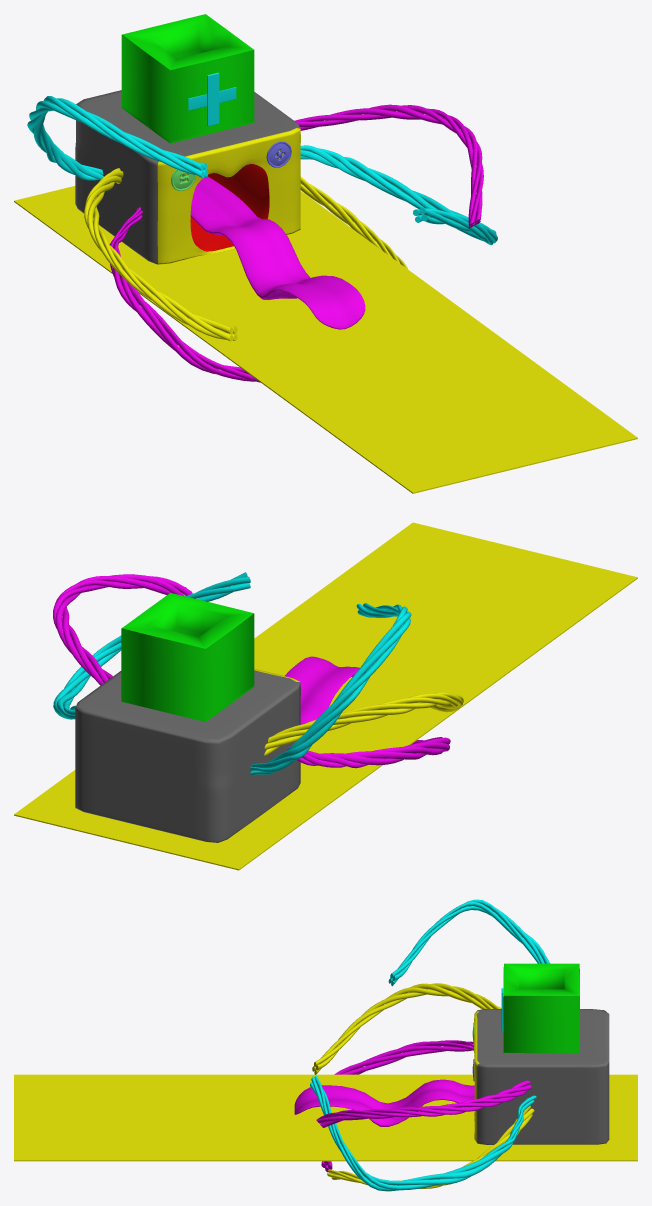
Rendered from quirkyGeek_quirkyMachine.fbx.
3 renders of one model, top to bottom at view 1: azimuth 30°, elevation 25°; view 2: azimuth 150°, elevation 25°; view 3: azimuth 270°, elevation 25°, orthographic. The views are drawn at different scales.
Visible parts, largest first — view 1: pCube57, pCube56, pCylinder8, pCylinder6, pCylinder10, pCylinder7, pCylinder11, pCylinder9; view 2: pCube57, pCube56, pCylinder8, pCylinder10, pCylinder7, pCylinder11, pCylinder6; view 3: pCube57, pCube56, pCylinder6, pCylinder10, pCylinder7, pCylinder8, pCylinder11, pCylinder9.
Part boxes in pixels (<box>): pCube57: <box>14,186,637,493</box>; pCube56: <box>75,14,365,329</box>; pCylinder8: <box>27,96,207,180</box>; pCylinder6: <box>300,145,497,245</box>; pCylinder10: <box>294,104,483,228</box>; pCylinder7: <box>84,168,237,341</box>; pCylinder11: <box>109,207,260,382</box>; pCylinder9: <box>300,176,407,268</box>; pCube57: <box>14,522,637,870</box>; pCube56: <box>75,593,365,842</box>; pCylinder8: <box>250,603,411,775</box>; pCylinder10: <box>53,574,192,685</box>; pCylinder7: <box>264,692,463,755</box>; pCylinder11: <box>289,737,450,768</box>; pCylinder6: <box>53,572,250,719</box>; pCube57: <box>14,1074,637,1161</box>; pCube56: <box>294,963,609,1144</box>; pCylinder6: <box>310,1075,536,1191</box>; pCylinder10: <box>316,1080,532,1127</box>; pCylinder7: <box>312,983,501,1074</box>; pCylinder8: <box>388,899,550,986</box>; pCylinder11: <box>321,1040,473,1172</box>; pCylinder9: <box>327,1105,534,1188</box>.
Size of the model in its own units: 333 by 210 by 600.
